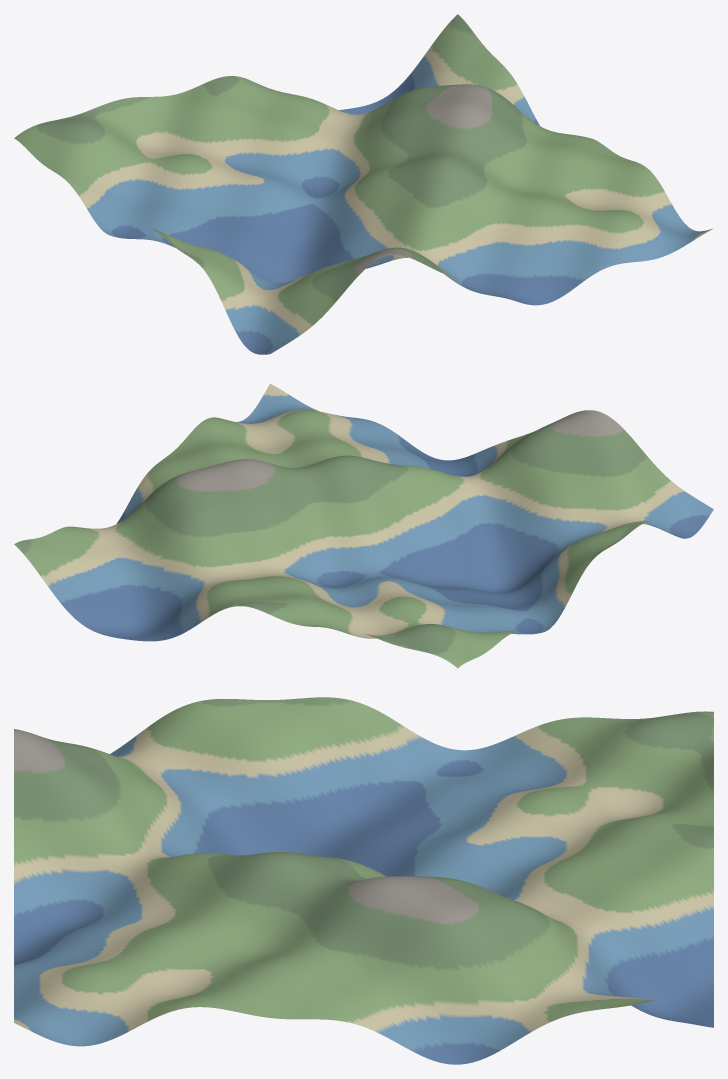
File: terrain.glb
3 views of the same model, one above another, from view 1: azimuth 30°, elevation 25°; view 2: azimuth 150°, elevation 25°; view 3: azimuth 270°, elevation 25° (orthographic). The views are drawn at different scales.
Visible parts, largest first — view 1: Terrain; view 2: Terrain; view 3: Terrain.
Part boxes in pixels (x1=…): Terrain: x1=14, y1=14, x2=712, y2=354; Terrain: x1=14, y1=383, x2=713, y2=668; Terrain: x1=14, y1=697, x2=713, y2=1064.
Bounding box in the file's own units: 4 × 0.9202 × 4.
